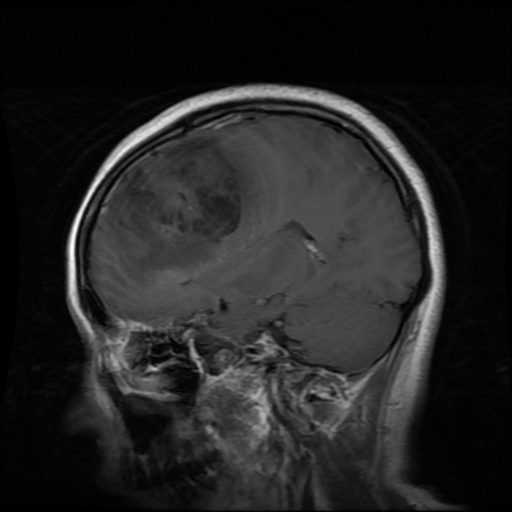glioma: (109, 135, 246, 264)
